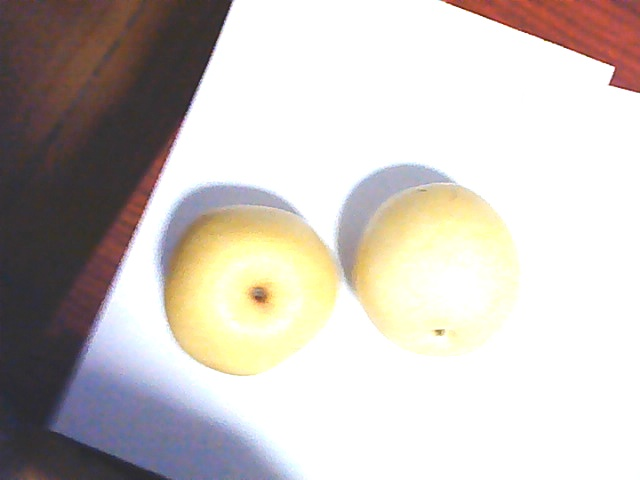pear: (349, 186, 517, 359), (168, 210, 337, 371)
